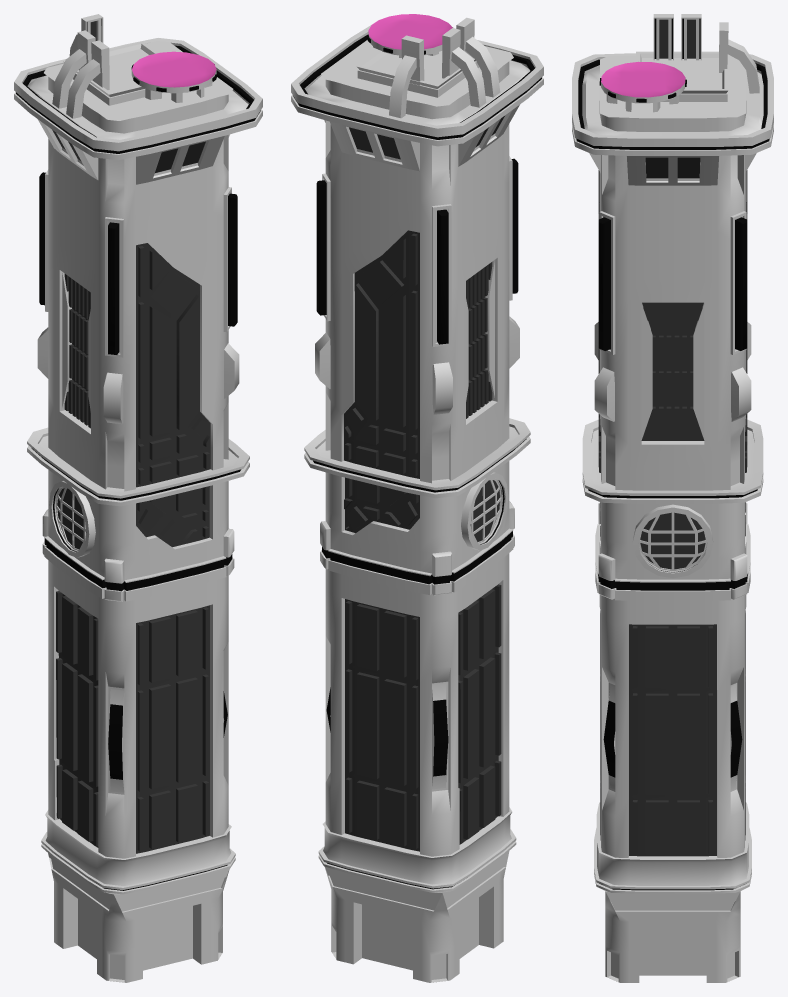
Rendered from Capitoly.fbx.
The picture shows the model from 3 angles, left to right: view 1: azimuth 30°, elevation 25°; view 2: azimuth 150°, elevation 25°; view 3: azimuth 270°, elevation 25°; orthographic projection.
Visible parts, largest first — view 1: Capitoly; view 2: Capitoly; view 3: Capitoly.
Part boxes in pixels (bbox=[...]): Capitoly: bbox=[14, 14, 262, 982]; Capitoly: bbox=[291, 14, 543, 982]; Capitoly: bbox=[572, 14, 773, 982].
Bounding box in the file's own units: 299 × 1500 × 299.
